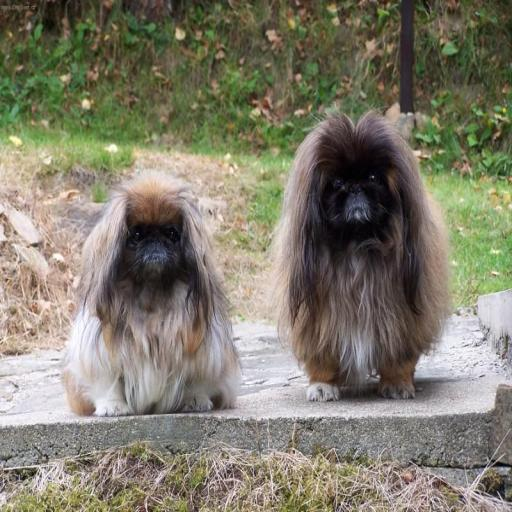dog_face: (285, 116, 438, 291), (80, 174, 215, 325)
